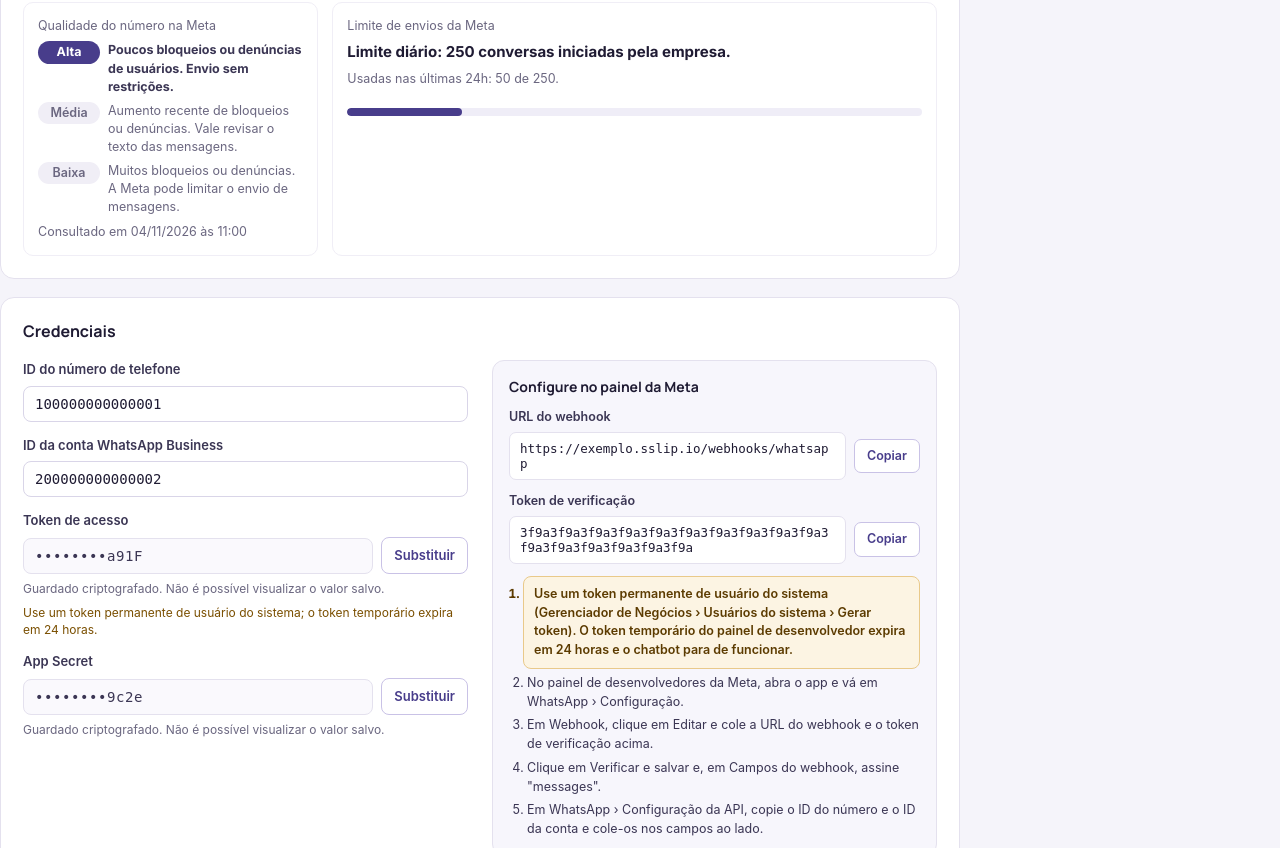
Scenario: WhatsAppPage › tira a descrição do Salvar depois do teste bem-sucedido com os valores atuais
The image size is (1280, 848).
(page scrolled)
Expected: the heading "Credenciais" is shown, x1=23 y1=320 x2=116 y2=342
Step 1. Type "9" into the field labelled "ID do número de telefone" → (246, 404), box x1=23 y1=386 x2=468 y2=422
(page scrolled)
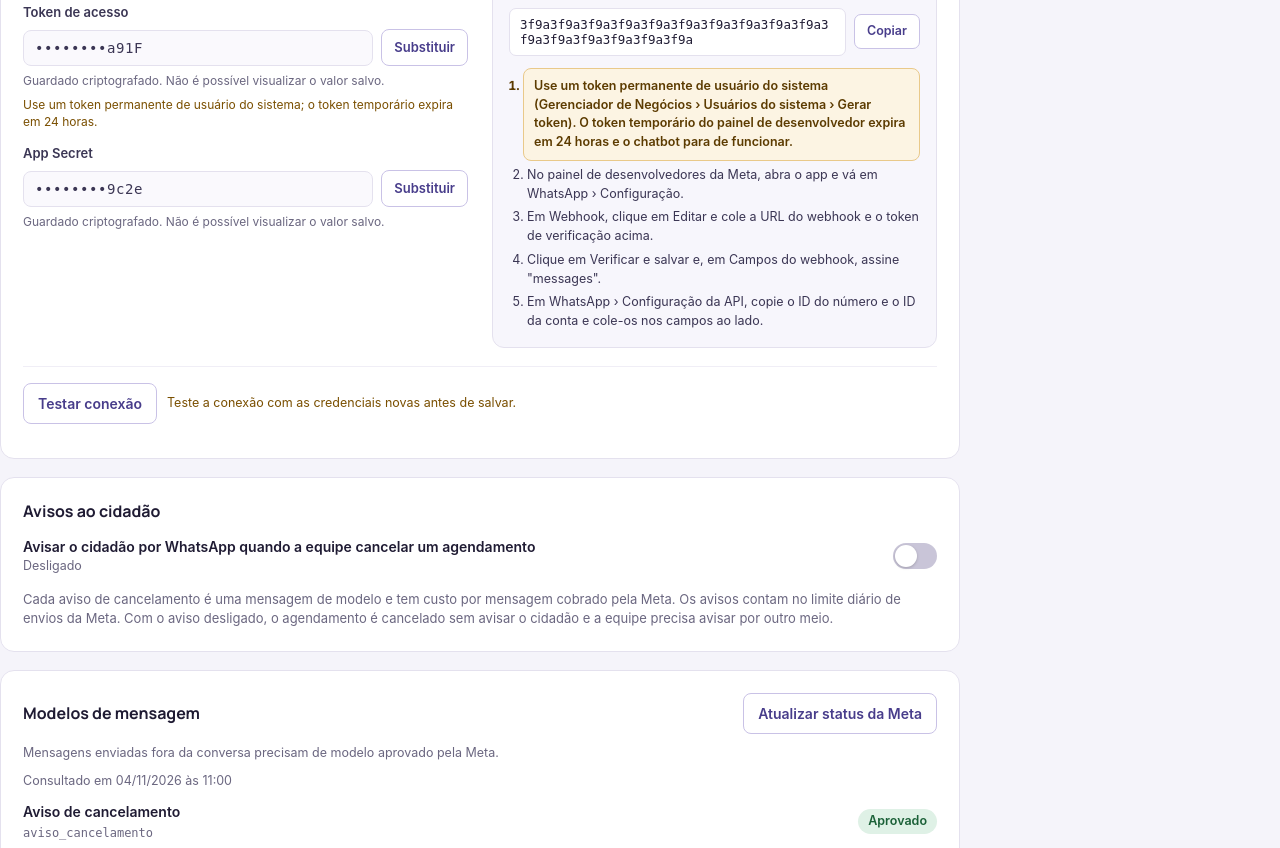
Step 2. Click the button "Testar conexão" → (90, 403), box x1=23 y1=383 x2=157 y2=424
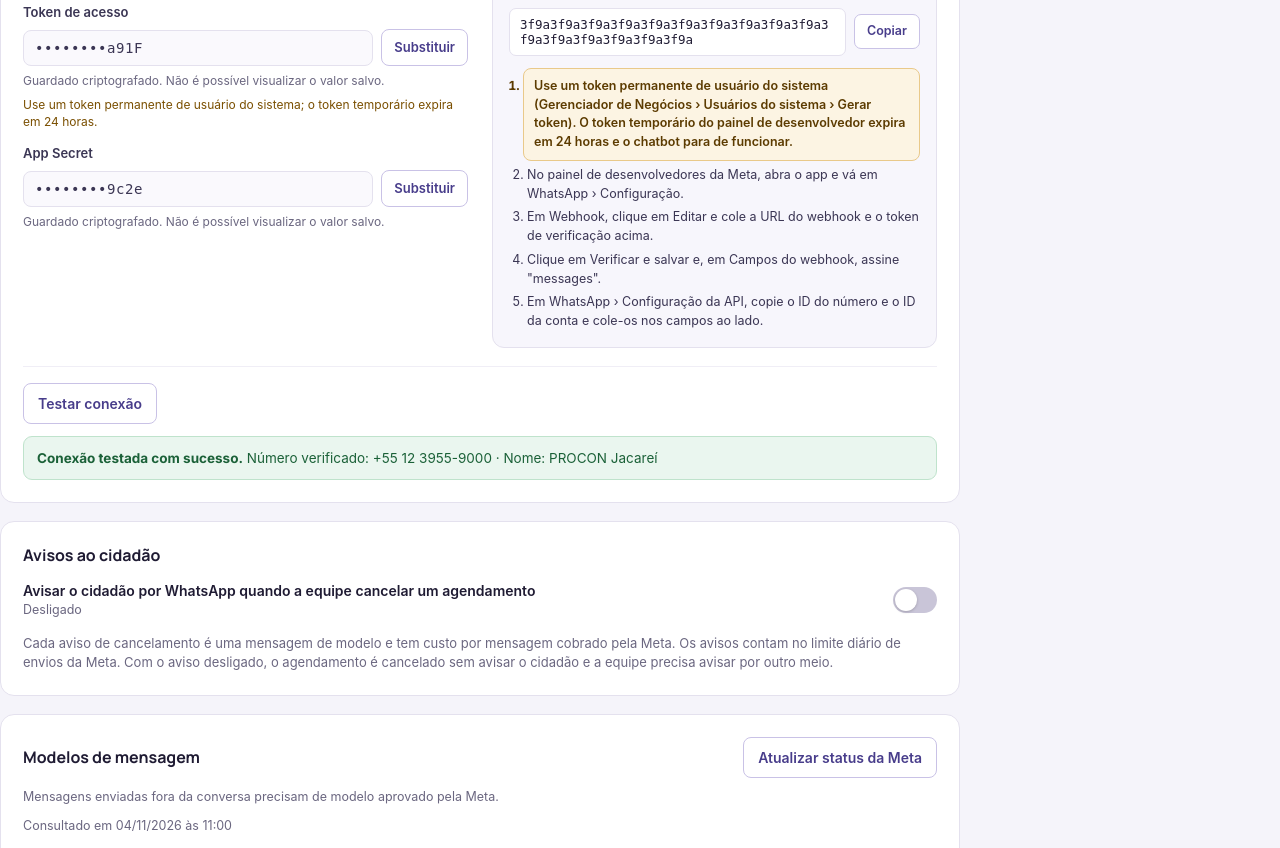
Now the text "Conexão testada com sucesso." is shown, box x1=37 y1=450 x2=243 y2=466
